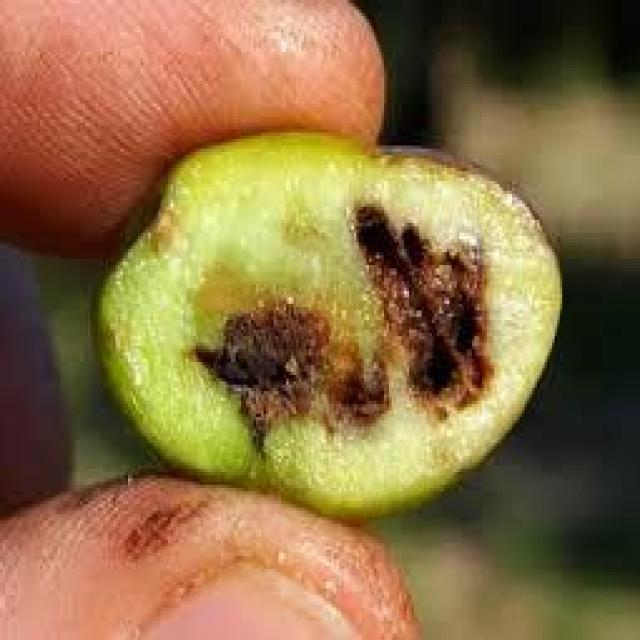Olive Fruit Fly: (98, 133, 560, 514)
